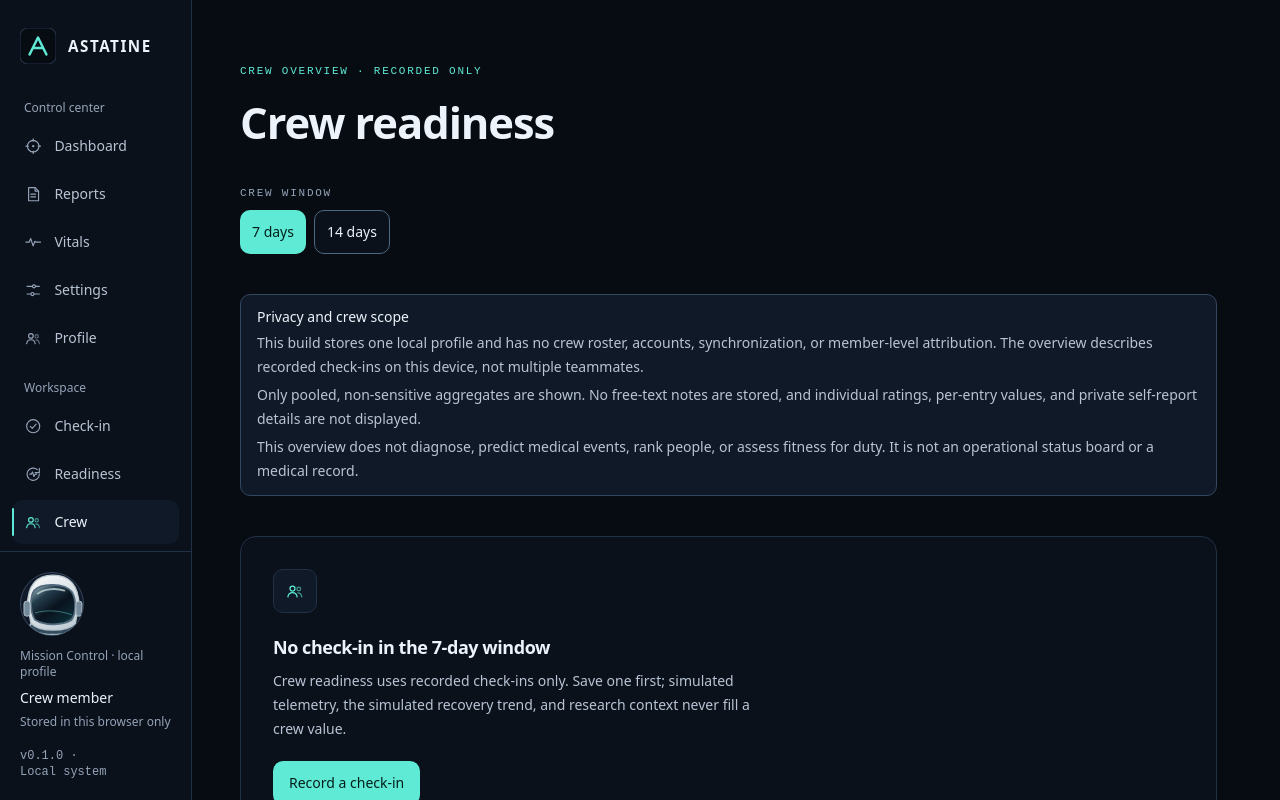
Scenario: CrewPage › shows an honest empty state with window controls, privacy copy, and related surfaces
This screenshot has width=1280, height=800.
Expected: the heading "Crew readiness" is shown, [240,92,554,152]
Expected: the heading "No check-in in the 7-day window" is shown, [273,635,550,659]
Click the button "14 days": point(352, 232) [314,210,390,254]
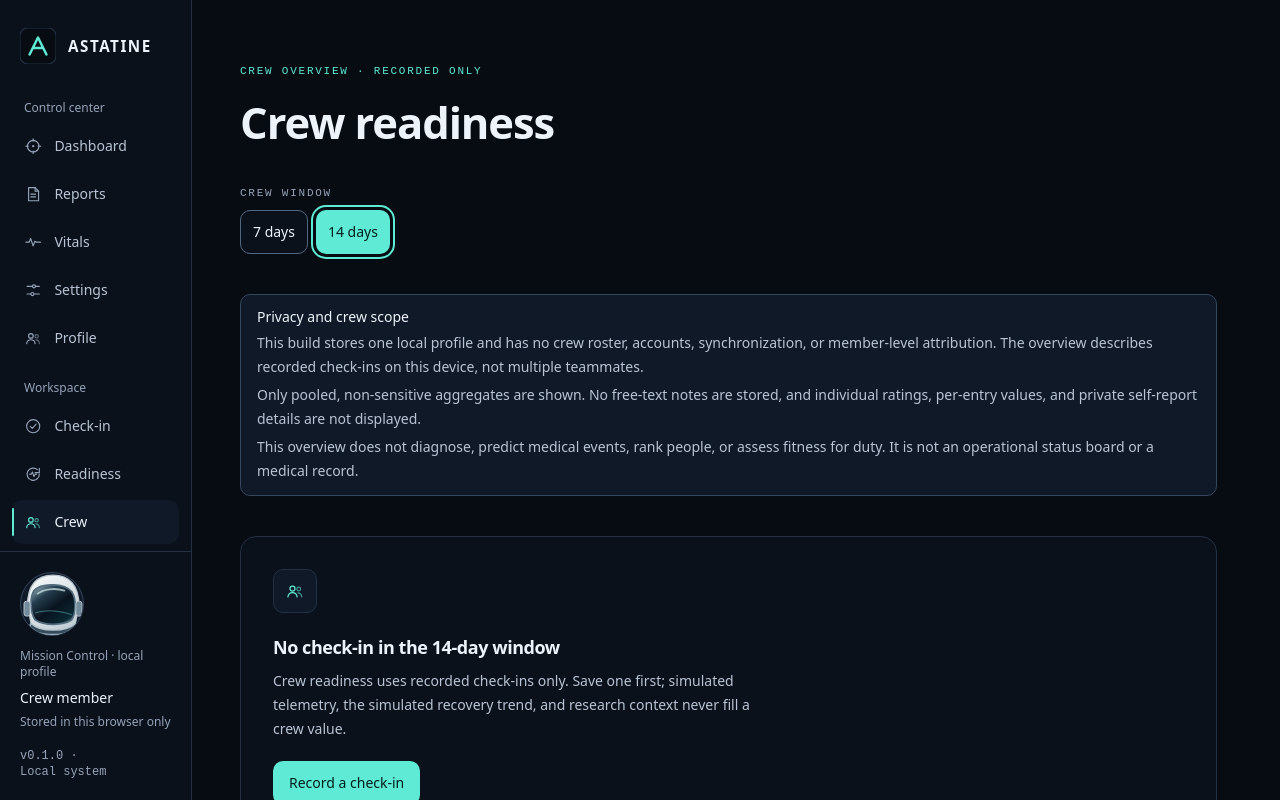
Expected: the heading "No check-in in the 14-day window" is shown, [273,635,560,659]
